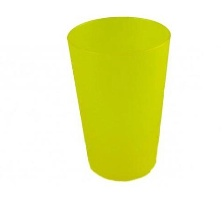glass: (50, 10, 177, 187)
